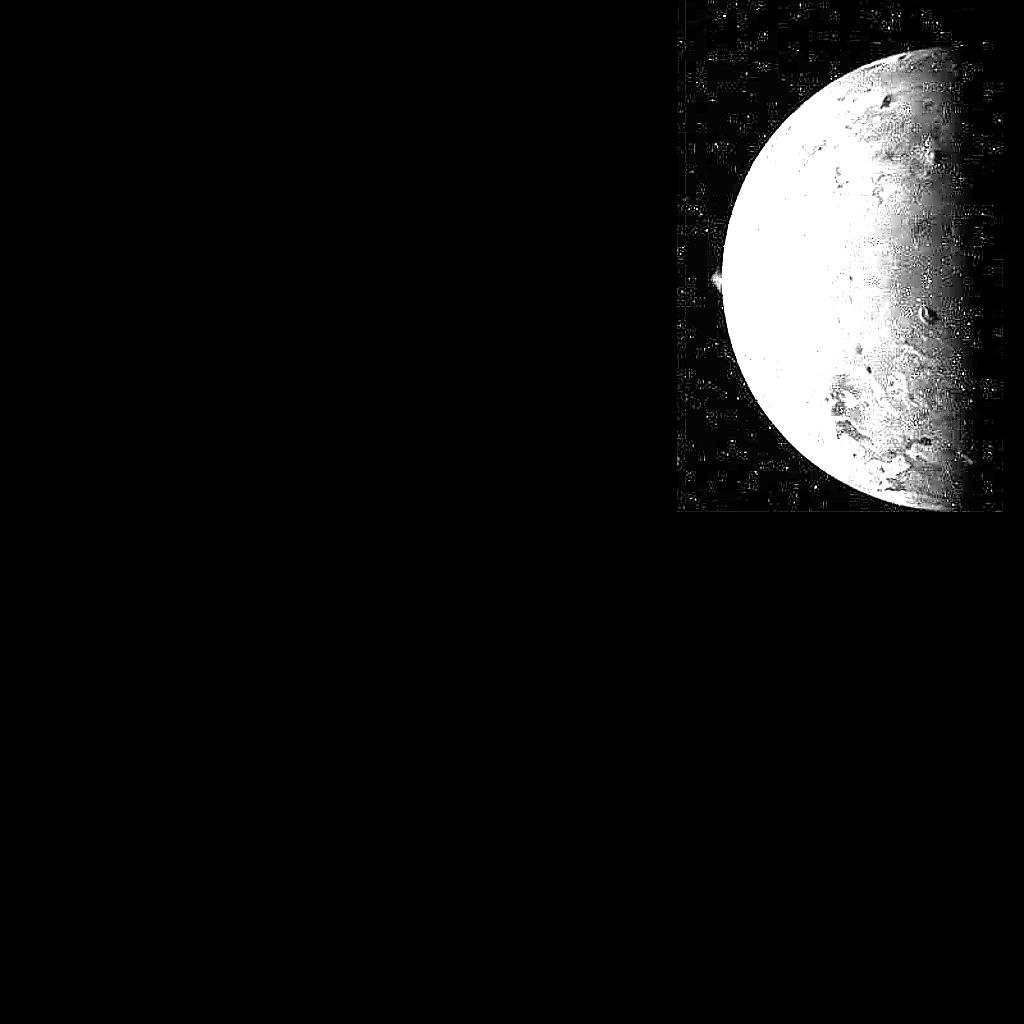plumes: (712, 269, 725, 294)
